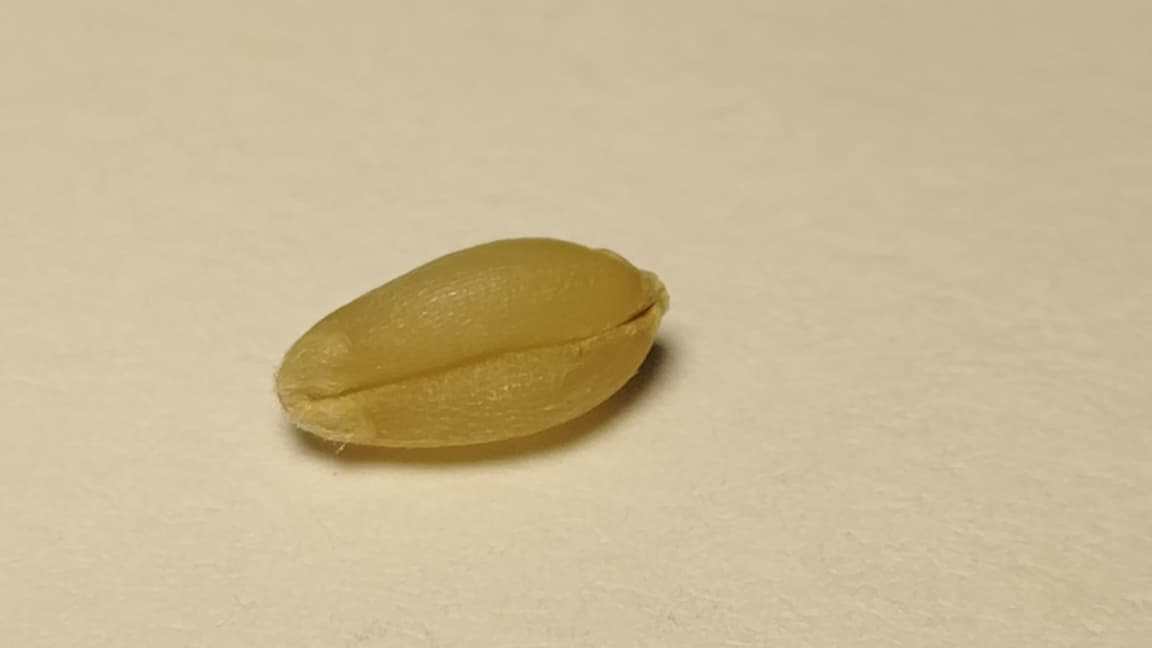healthy: (278, 239, 667, 446)
